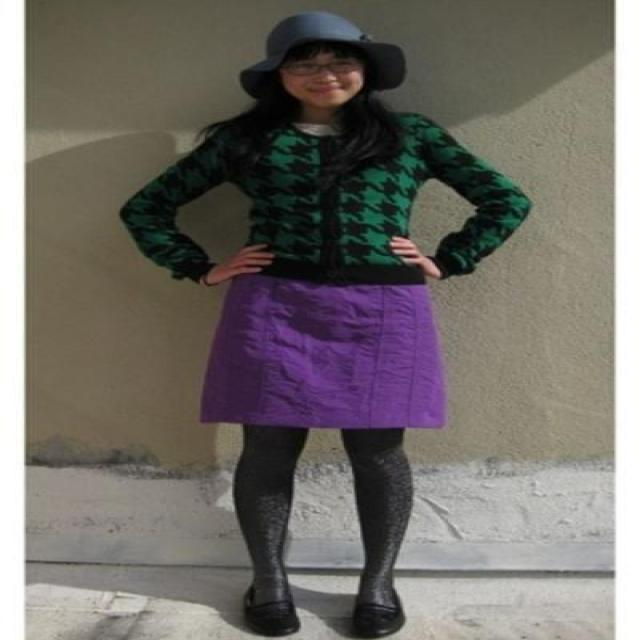hat: (240, 11, 405, 104)
jacket: (119, 112, 532, 286)
shoe: (249, 590, 402, 639)
skirt: (200, 272, 445, 432)
